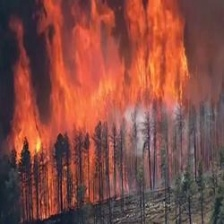fire: (7, 1, 189, 207)
